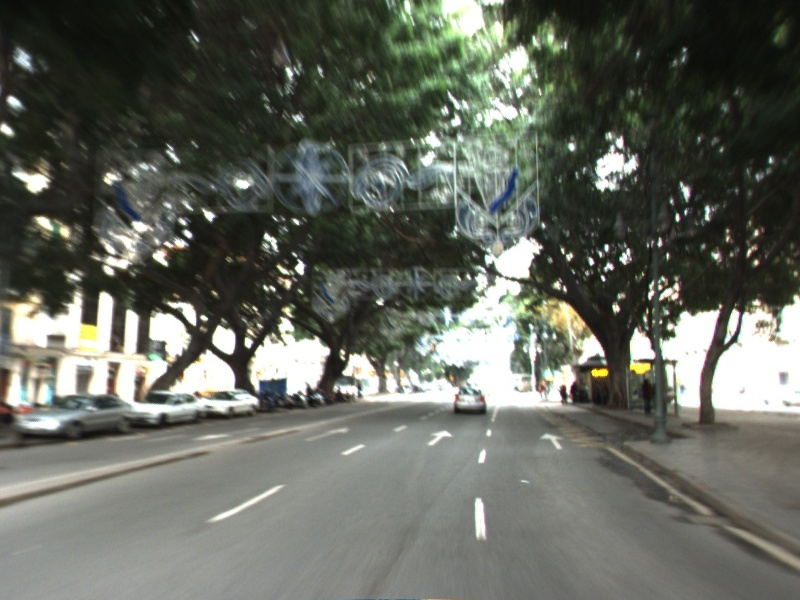STRAIGHT: (301, 425, 353, 443), (537, 430, 567, 451), (425, 428, 455, 447)
